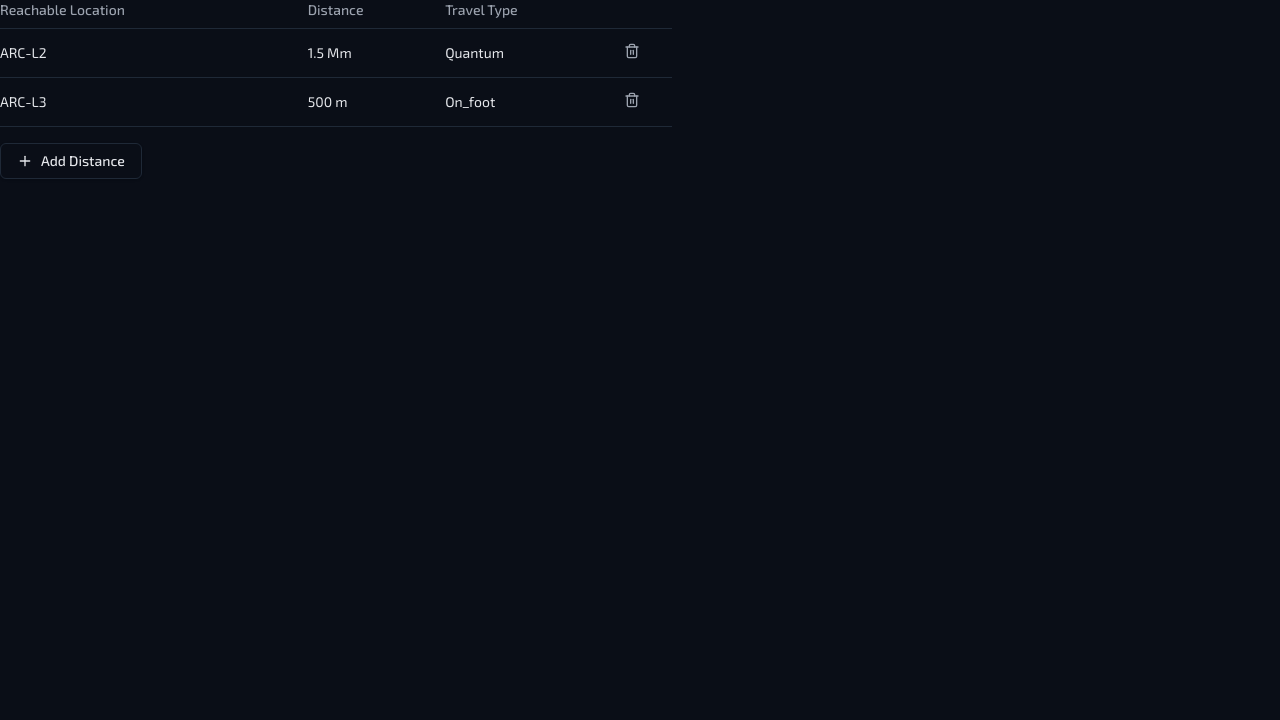
Scenario: DistancesTab › deletes distance when confirmed
The width and height of the screenshot is (1280, 720).
Expected: the text "ARC-L2" is shown, [0,28,308,78]
Click the button named "Delete distance to ARC-L2".
click(632, 51)  # box [624,43,640,59]
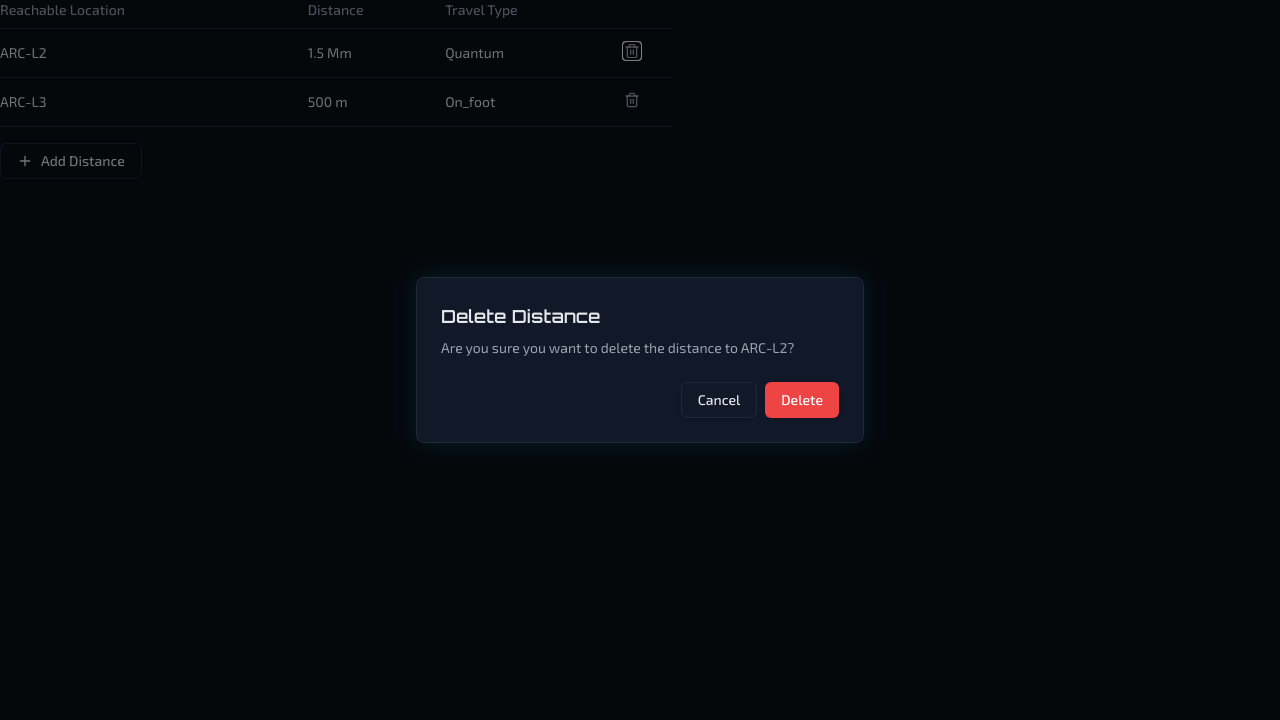
Click the button "Delete".
click(802, 400)  # box [765,382,839,418]
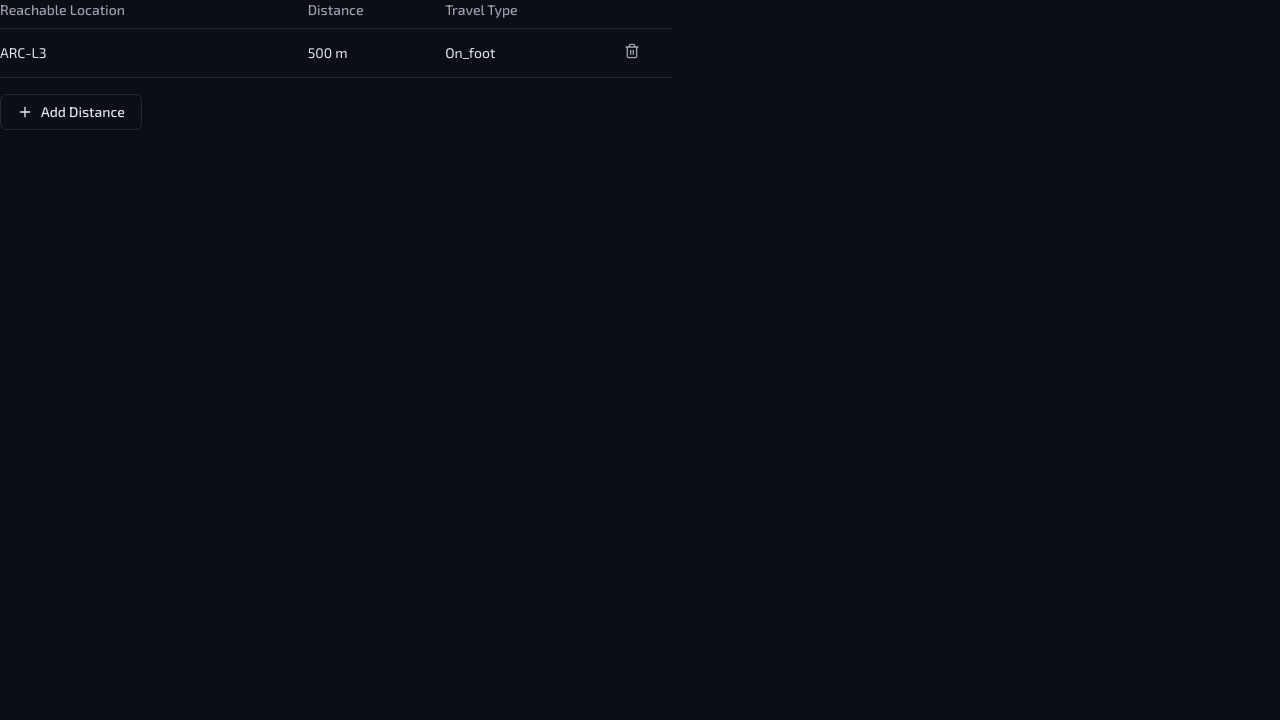
Expected: the text "ARC-L3" is shown, [0,28,308,78]
Expected: the text "ARC-L2" is gone
